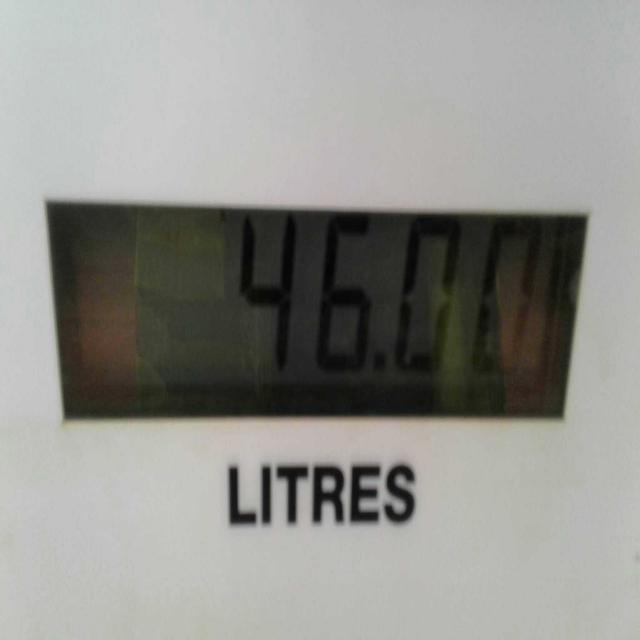.: (369, 349, 394, 379)
0: (468, 217, 546, 384), (397, 219, 459, 382)
4: (235, 213, 304, 377)
6: (316, 209, 376, 382)
screen: (42, 195, 590, 430)
